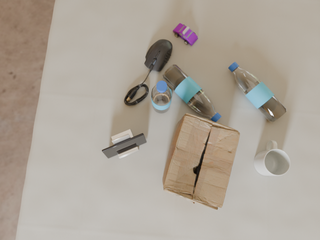bottle: (228, 62, 287, 122), (162, 64, 221, 122), (151, 81, 172, 113)
box: (163, 113, 240, 210)
cup: (254, 140, 290, 176)
mouse: (144, 39, 172, 73)
phone: (102, 133, 146, 158)
toy_car: (173, 23, 198, 45)
